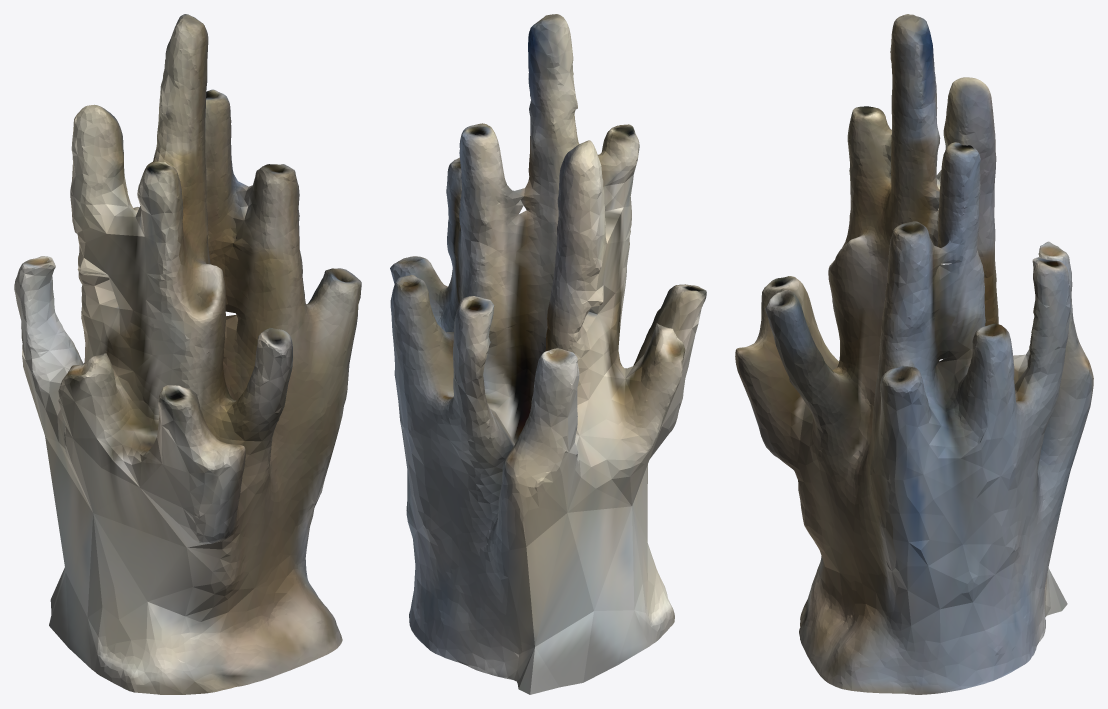
The picture shows the model from 3 angles, left to right: view 1: azimuth 30°, elevation 25°; view 2: azimuth 150°, elevation 25°; view 3: azimuth 270°, elevation 25°; orthographic projection. The views are drawn at different scales.
Visible parts, largest first — view 1: mesh; view 2: mesh; view 3: mesh.
Boxes of the visible parts, <box> form: mesh: <box>14,14,361,694</box>; mesh: <box>390,14,706,694</box>; mesh: <box>735,14,1093,694</box>.
Size of the model in its own units: 0.1137 by 0.2275 by 0.1203.
1 material, 1 textured.
